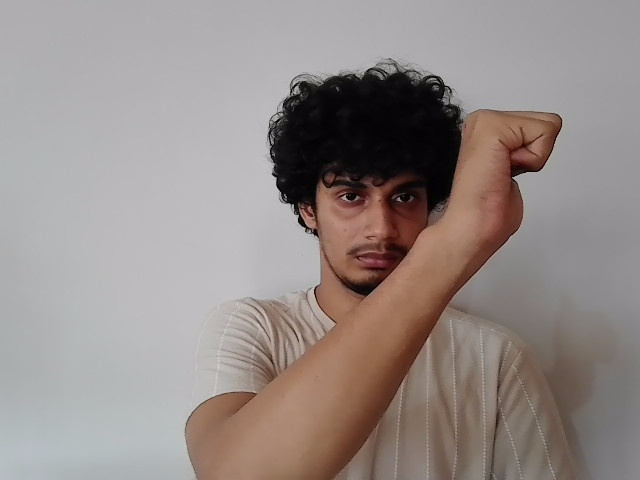how: (457, 108, 566, 250)
